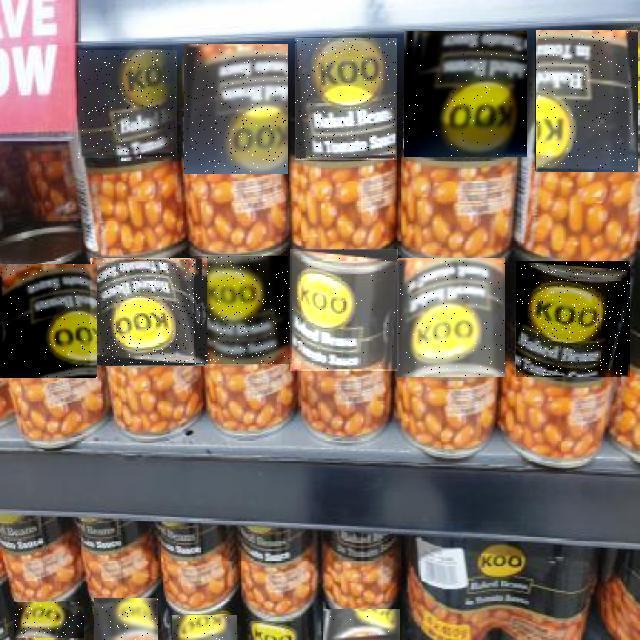Beans: (404, 31, 527, 157), (536, 31, 638, 173), (184, 44, 288, 174), (516, 261, 630, 377), (290, 249, 398, 371), (397, 258, 505, 377), (90, 259, 207, 367), (295, 38, 397, 160), (0, 265, 97, 379), (78, 50, 177, 158), (194, 256, 292, 364), (94, 598, 158, 640), (14, 602, 84, 638), (323, 609, 400, 640), (172, 615, 237, 640)
